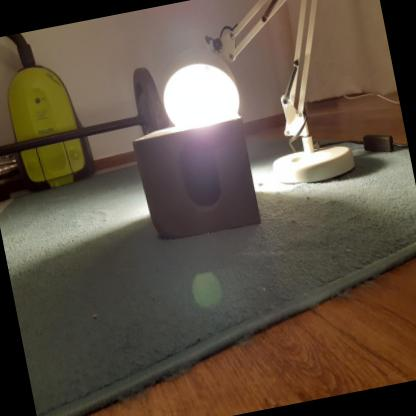CornerCasting: (129, 106, 267, 253)
